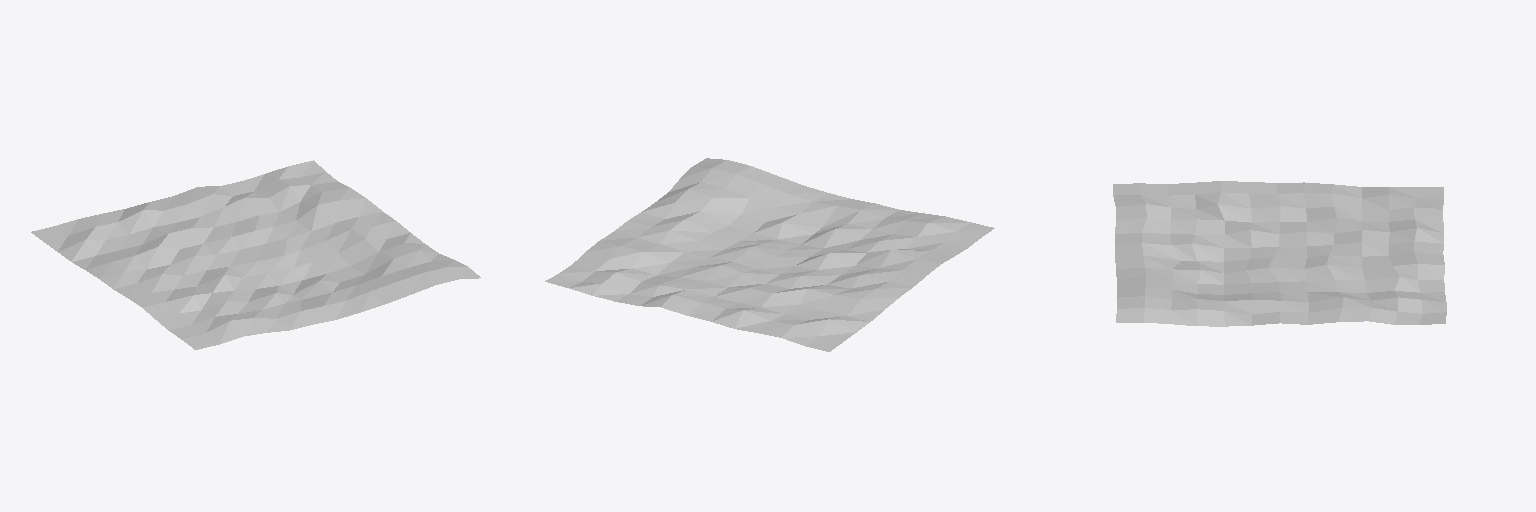
File: desert.obj
The picture shows the model from 3 angles: view 1: azimuth 30°, elevation 25°; view 2: azimuth 150°, elevation 25°; view 3: azimuth 270°, elevation 25°; orthographic projection.
Parts seen in each view (by area): view 1: Plane; view 2: Plane; view 3: Plane.
Boxes of the visible parts, x1,y1,x2,y2 form: Plane: [31, 160, 480, 349]; Plane: [545, 158, 994, 351]; Plane: [1113, 181, 1446, 326].
Size of the model in its own units: 144 by 8.07 by 144.